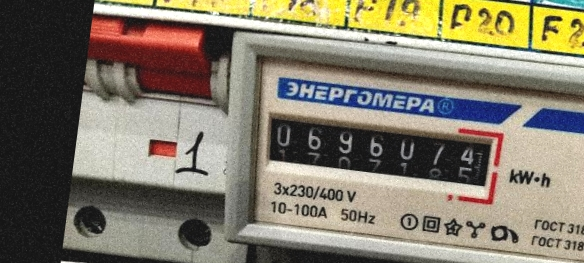0: (271, 120, 293, 147), (397, 133, 416, 161)
4: (458, 140, 477, 166)
5: (455, 164, 473, 183)
6: (303, 122, 326, 151), (365, 131, 385, 157)
7: (426, 138, 447, 166)
9: (333, 127, 355, 154)
screen: (248, 96, 509, 208)
